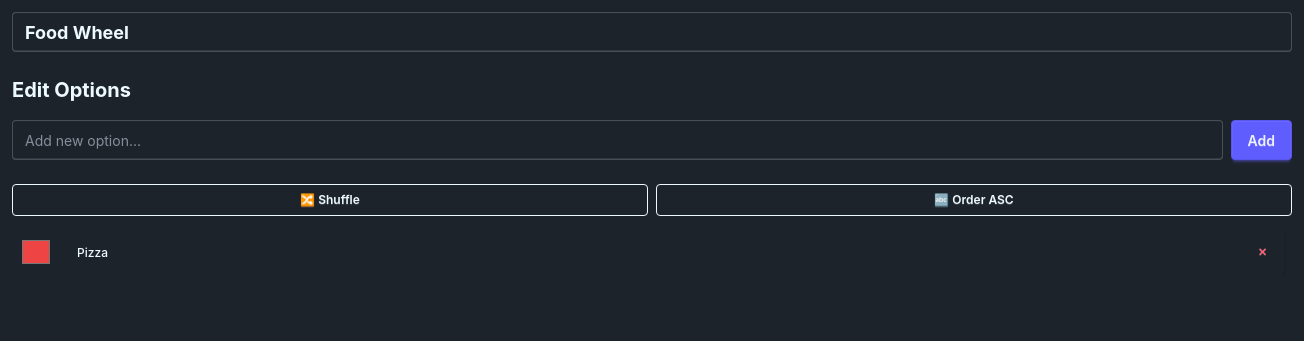
Scenario: SegmentEditor › adds a segment when the Add button is clicked
Type "Ramen" into the field with placeholder "Add new option...".
click(617, 140); type("Ramen")  # box [12, 120, 1222, 160]
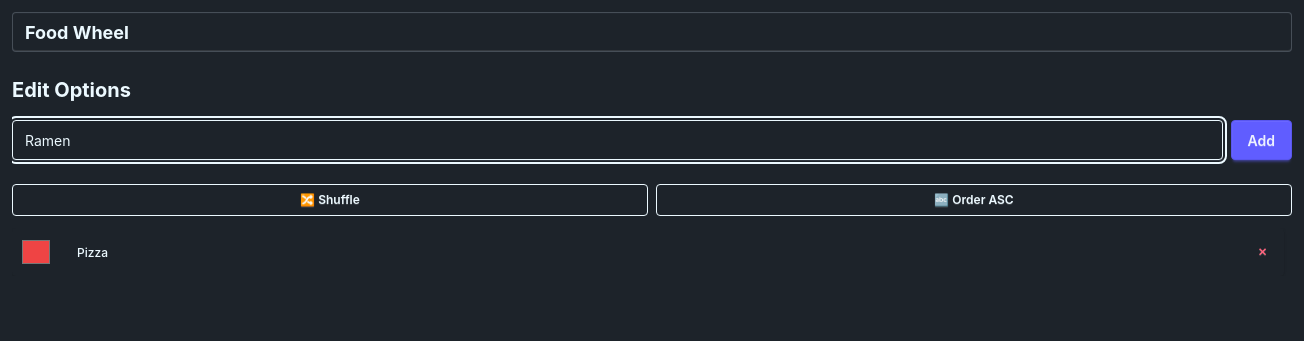
Click the button "Add".
click(1261, 140)  # box [1230, 120, 1292, 160]
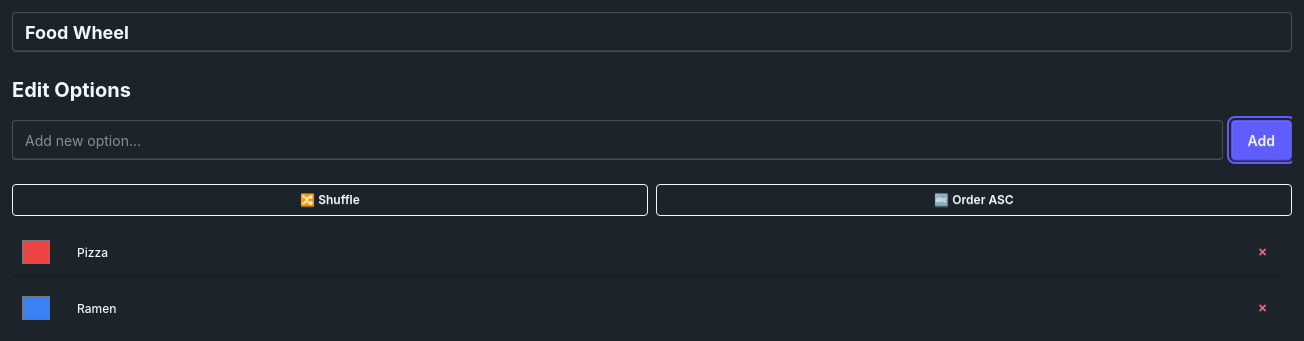
expect the 3rd field showing "Ramen" is shown: met, box [64, 292, 1233, 324]
